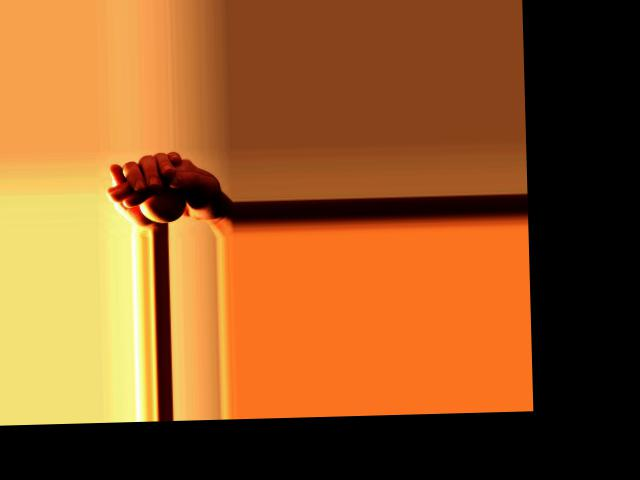egg: (139, 190, 187, 223)
